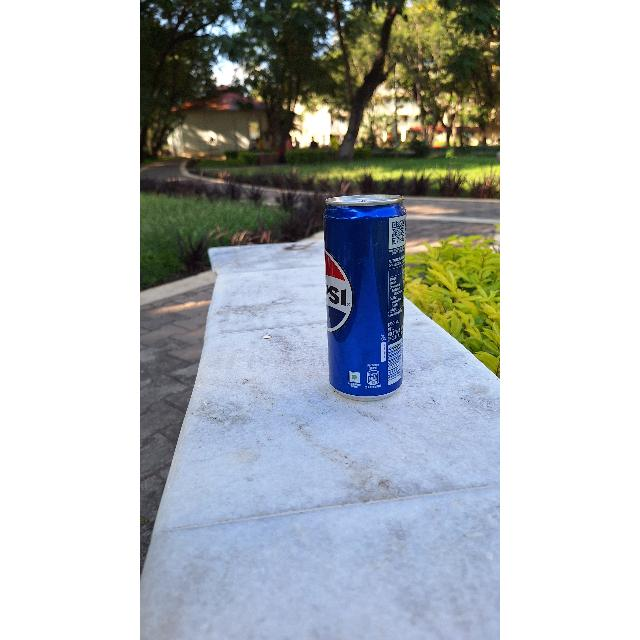Pepsi: (322, 197, 404, 396)
